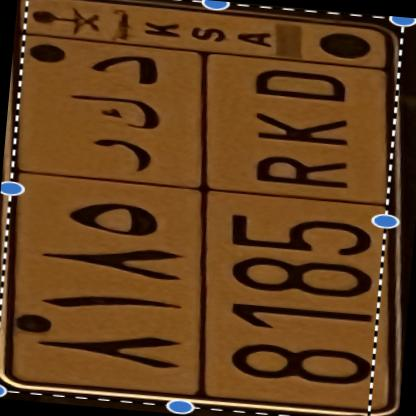english: (183, 52, 393, 414)
